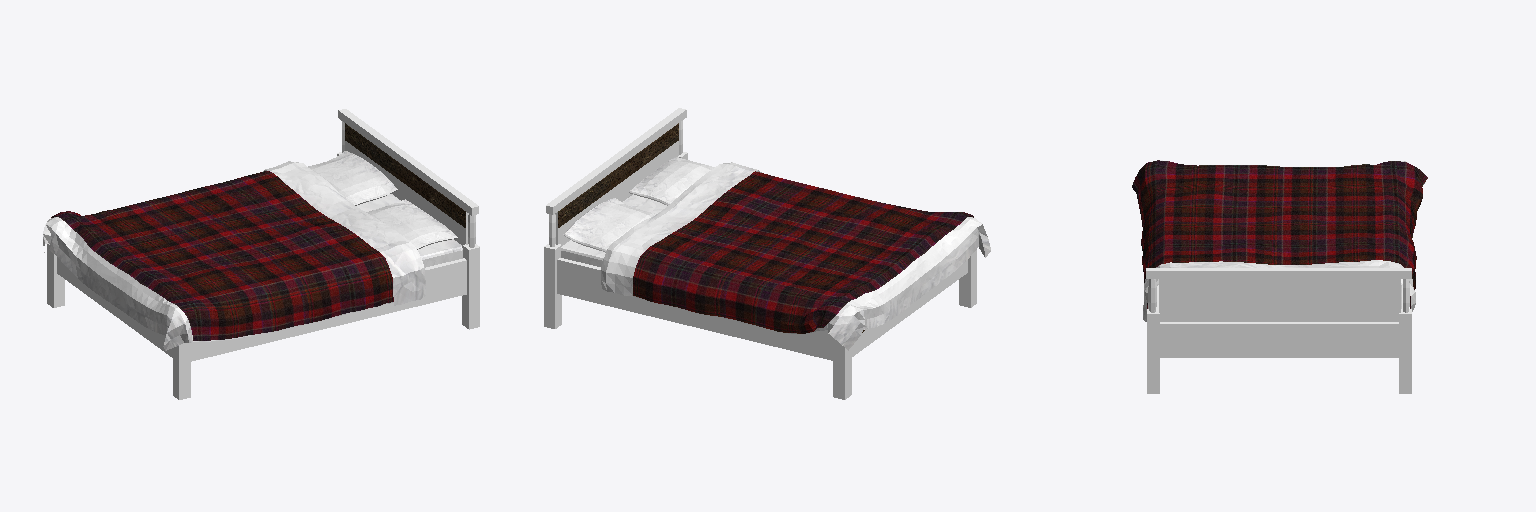
3 renders of one model, left to right at view 1: azimuth 30°, elevation 25°; view 2: azimuth 150°, elevation 25°; view 3: azimuth 270°, elevation 25°, orthographic.
Parts seen in each view (by area): view 1: Object01, Plane02, Box08, Box15, Box16, Box09, Bedornament01, Box04, Box06, Box02, ChamferBox01, Box03 (+1 smaller); view 2: Object01, Plane02, Box07, Box15, Box09, Bedornament01, Box16, Box04, Box02, Box05, ChamferBox01, Box01 (+1 smaller); view 3: Object01, Box04, Box09, Plane02, Box06, Box05.
Part boxes in pixels (x1,y1,x2,y2): Object01: (51, 171, 393, 340); Plane02: (43, 161, 425, 350); Box08: (191, 258, 466, 361); Box15: (308, 151, 397, 205); Box16: (366, 199, 457, 249); Box09: (338, 109, 478, 215); Bedornament01: (345, 123, 465, 227); Box04: (345, 141, 468, 244); Box06: (462, 244, 479, 329); Box02: (57, 257, 172, 357); ChamferBox01: (357, 194, 462, 267); Box03: (173, 343, 190, 399); Object01: (633, 171, 973, 333); Plane02: (601, 162, 990, 350); Box07: (557, 258, 832, 360); Box15: (563, 198, 655, 252); Box09: (546, 108, 686, 214); Bedornament01: (558, 123, 864, 332); Box16: (629, 157, 714, 205); Box04: (555, 141, 678, 244); Box02: (852, 260, 967, 356); Box05: (544, 244, 561, 328); ChamferBox01: (561, 194, 666, 267); Box01: (833, 338, 851, 399); Object01: (1132, 160, 1427, 308); Box04: (1159, 279, 1400, 357); Box09: (1146, 268, 1411, 278); Plane02: (1143, 160, 1425, 321); Box06: (1147, 309, 1159, 393); Box05: (1399, 309, 1411, 393).
Bounding box in the file's own units: 2.17 × 0.8014 × 1.77.
Materials: 5 (3 with a texture image).